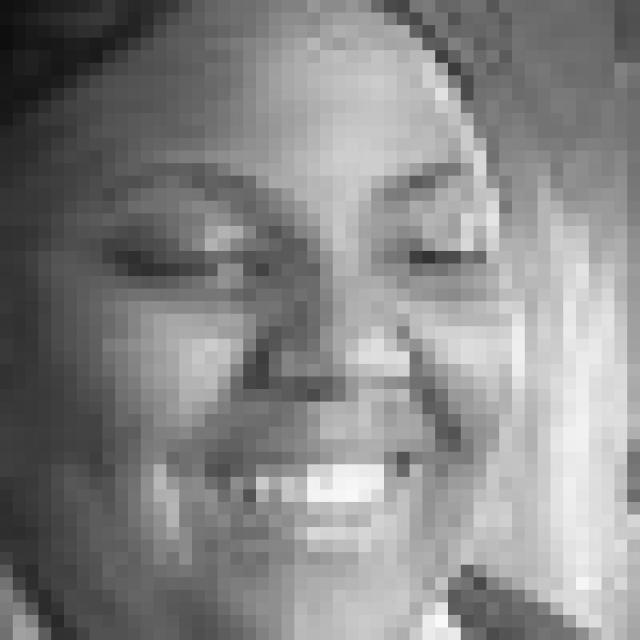real: (30, 0, 528, 614), (124, 186, 492, 294)
